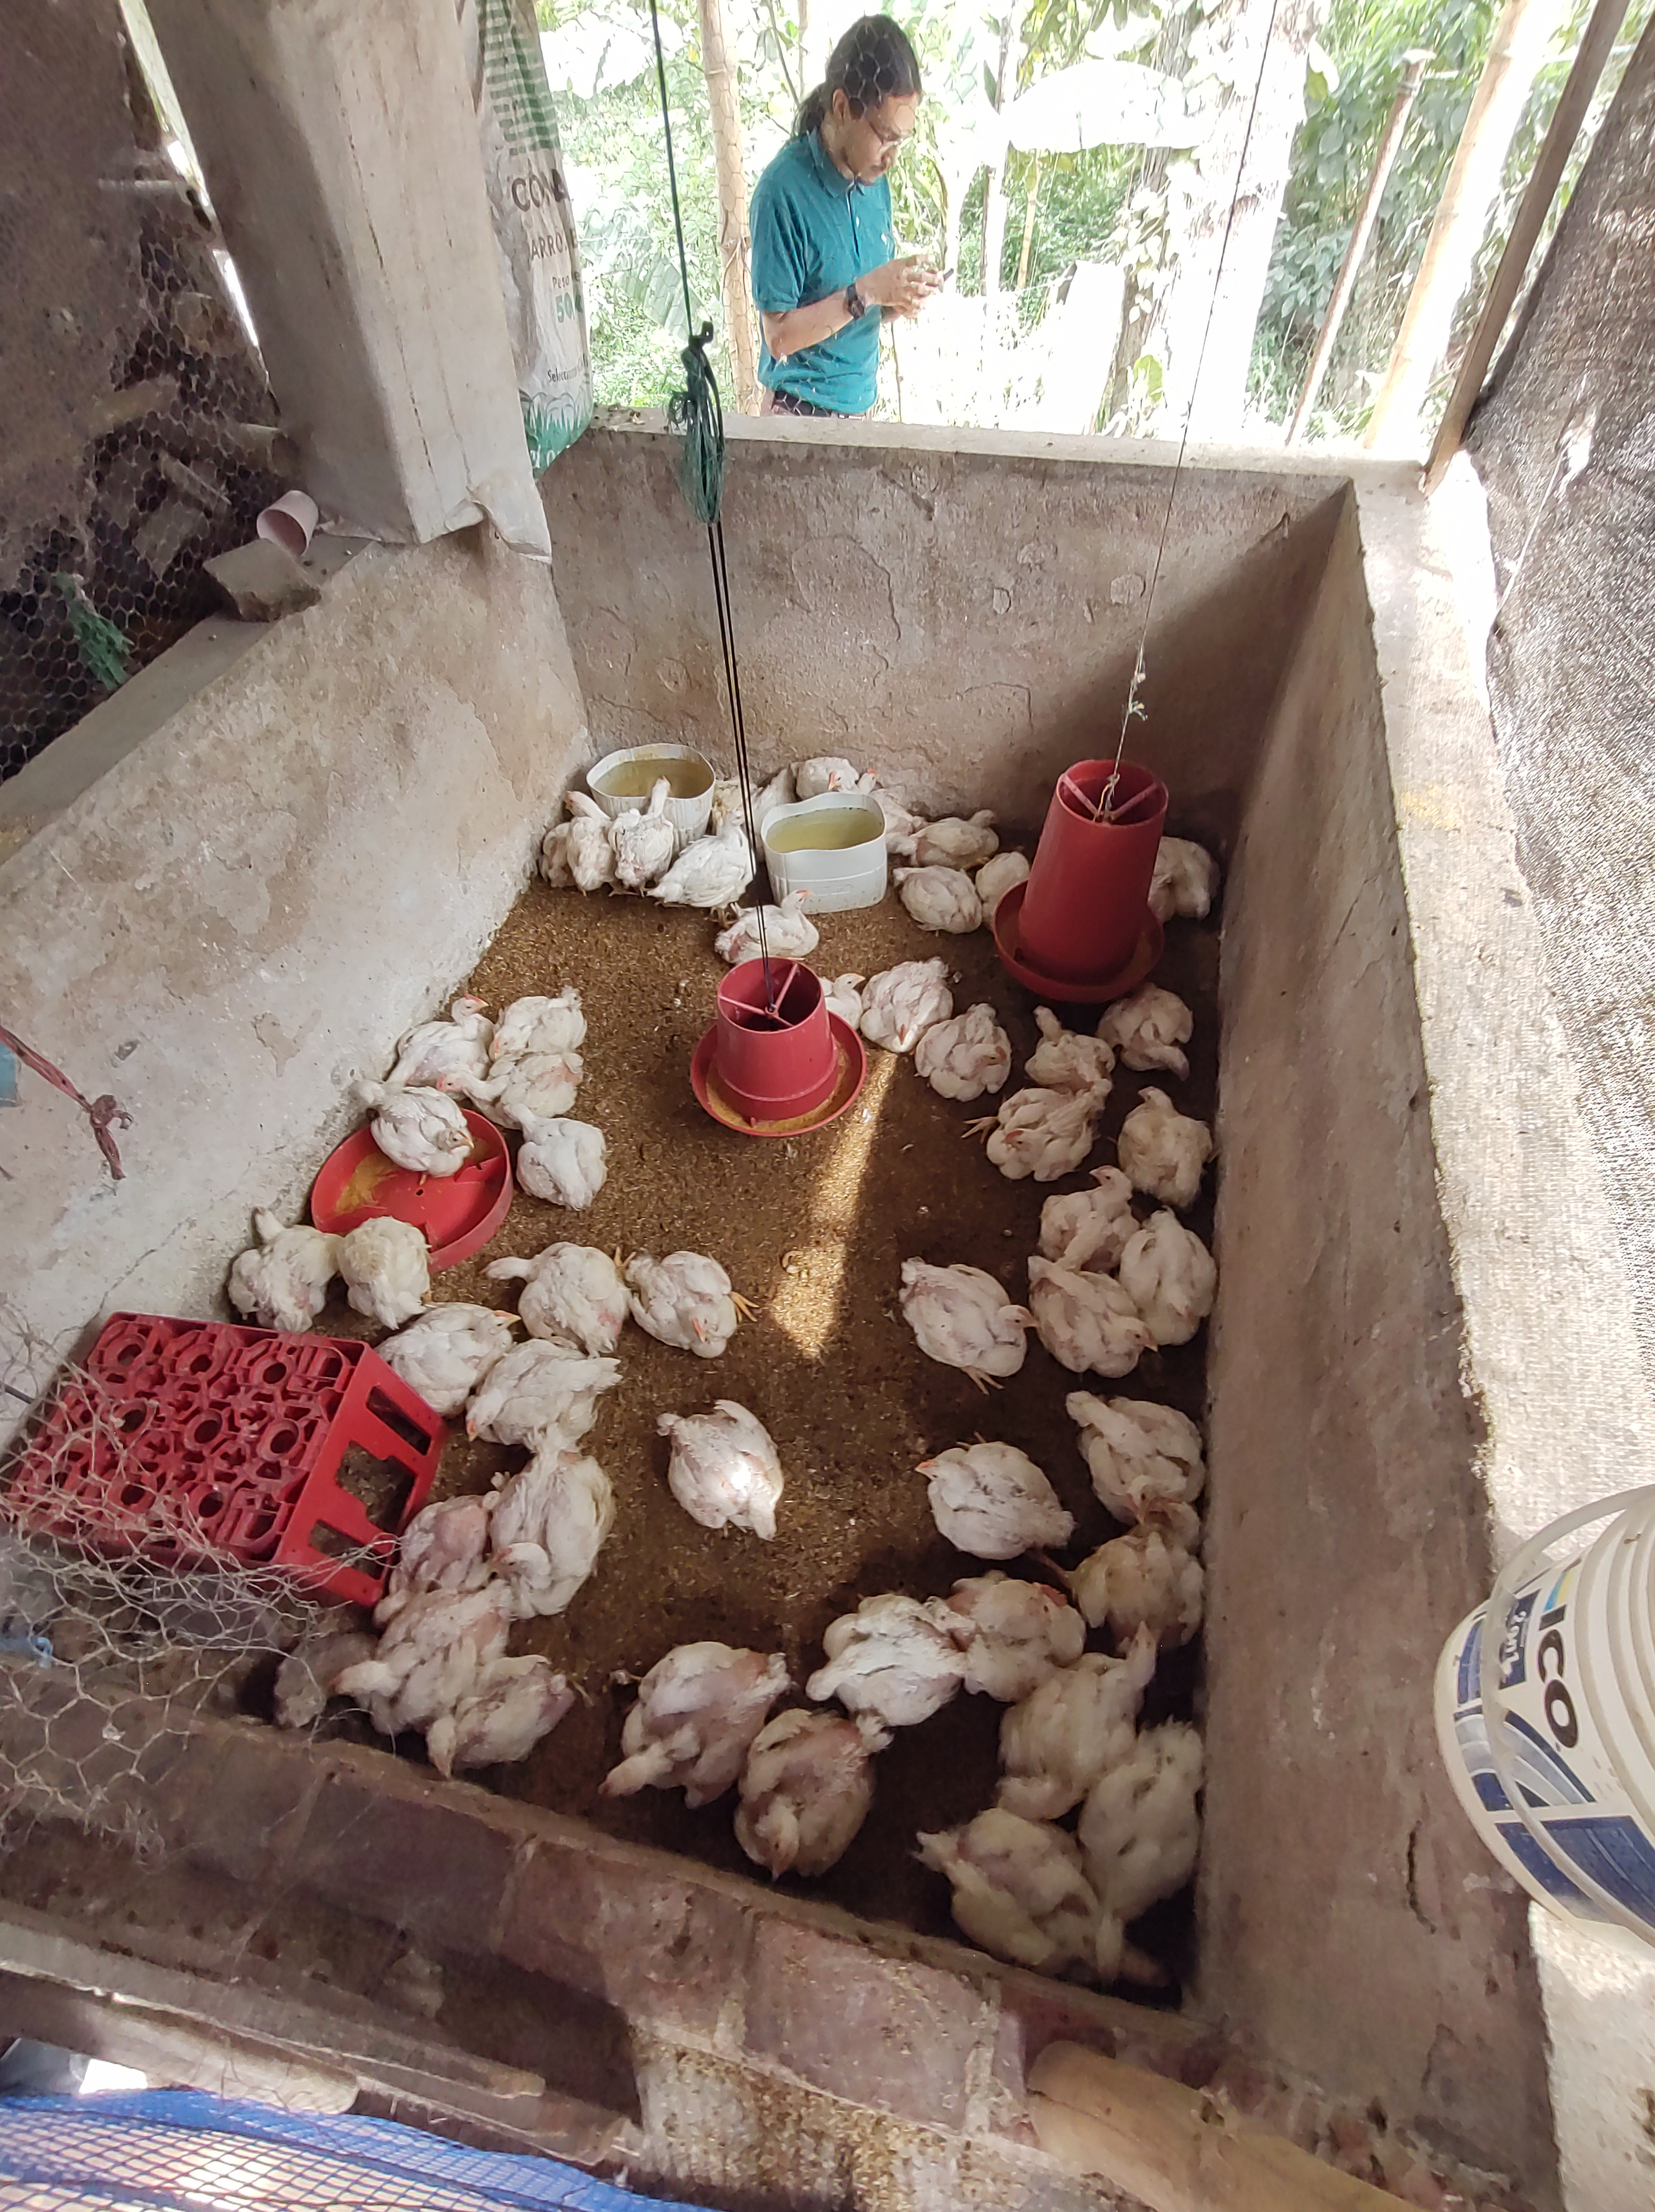Pollos: (923, 1805, 1160, 1993), (1092, 1723, 1203, 1937), (1073, 1374, 1213, 1516), (1029, 1631, 1160, 1784), (914, 1435, 1078, 1542), (596, 1676, 751, 1789), (462, 1349, 622, 1454), (907, 1256, 1036, 1381), (808, 1600, 956, 1702), (1100, 1496, 1208, 1633), (666, 1405, 777, 1534), (624, 1249, 754, 1353), (377, 1304, 527, 1393), (351, 1075, 482, 1172), (231, 1203, 329, 1325), (1132, 1200, 1213, 1343), (377, 1496, 471, 1619), (490, 1242, 615, 1330), (502, 1096, 607, 1200), (329, 1617, 440, 1715), (1121, 1087, 1212, 1196), (501, 1513, 593, 1619), (956, 1569, 1071, 1647), (1050, 1276, 1151, 1362), (414, 1687, 528, 1762), (861, 955, 956, 1043), (678, 807, 761, 908), (346, 1216, 426, 1316), (748, 1756, 817, 1869), (1031, 1005, 1121, 1092), (984, 1090, 1090, 1162), (1121, 993, 1208, 1076), (927, 1010, 1010, 1096), (1140, 828, 1220, 915), (490, 989, 586, 1059), (1060, 1162, 1139, 1245), (892, 857, 979, 929), (615, 774, 676, 873), (739, 885, 814, 958), (549, 790, 607, 880), (417, 988, 490, 1057), (918, 802, 1007, 857), (793, 755, 894, 793), (827, 965, 861, 1014)
